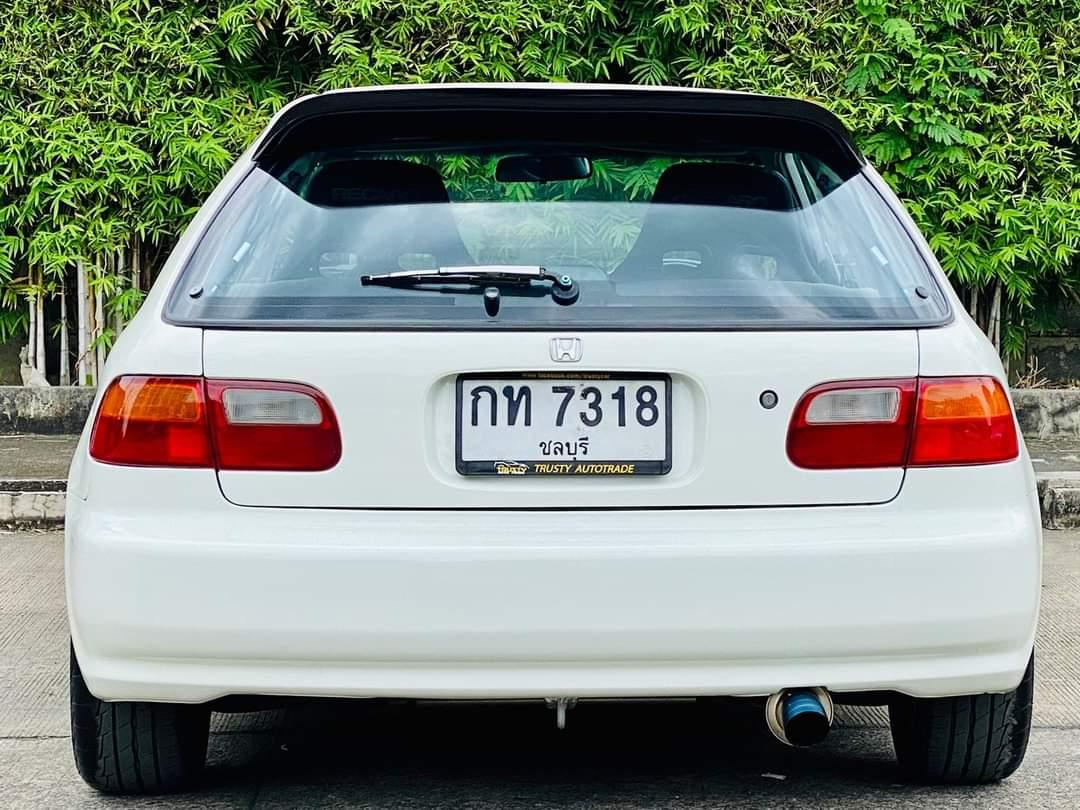license-plate: (454, 367, 673, 481)
